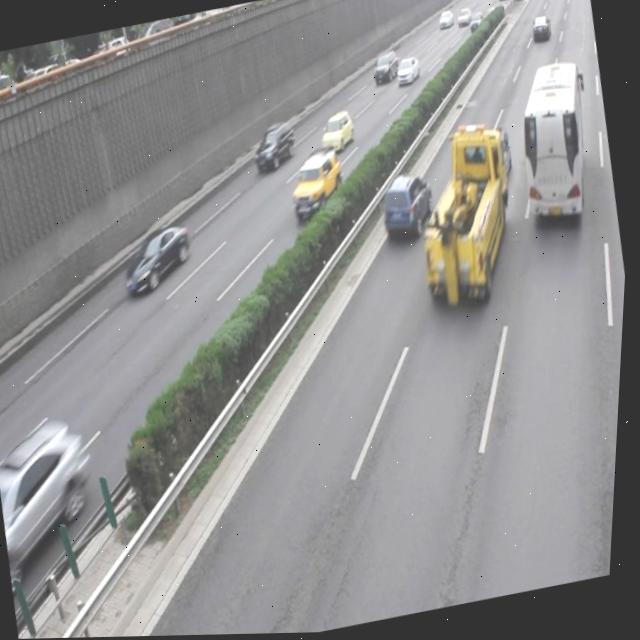bus: (402, 116, 530, 312)
car: (0, 417, 113, 602), (119, 222, 202, 301), (285, 149, 351, 224), (377, 167, 439, 240), (475, 123, 515, 182), (317, 108, 358, 156)
truck: (250, 119, 302, 177)
van: (504, 58, 602, 226)
